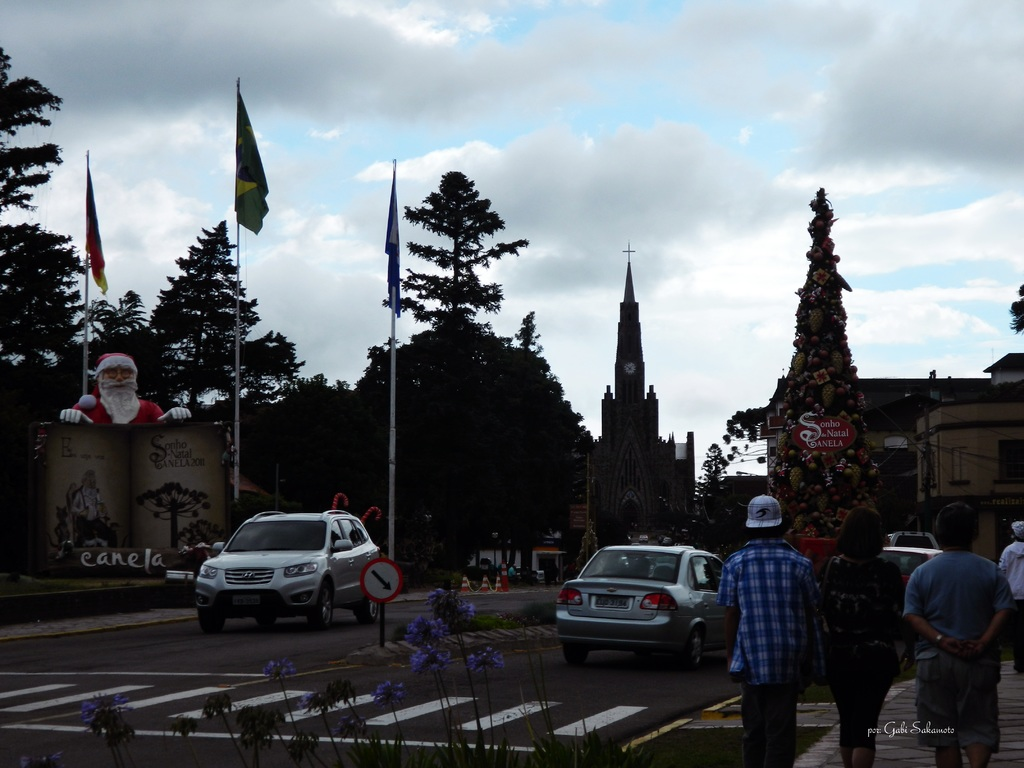Car: (189, 501, 385, 634), (550, 546, 739, 679), (881, 542, 943, 583), (886, 526, 934, 550)
